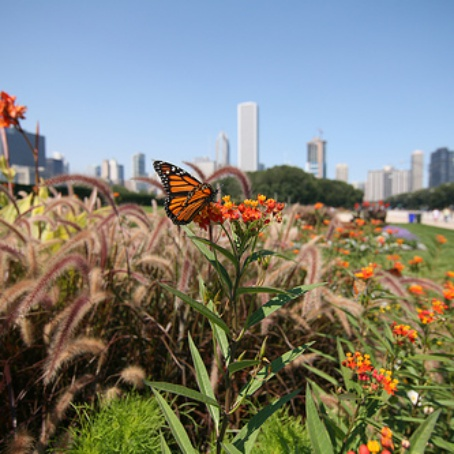building: (233, 95, 265, 174), (303, 133, 330, 181), (205, 131, 233, 172), (363, 166, 390, 208)
flowers: (14, 163, 454, 454)
insect: (151, 161, 218, 225)
sky: (1, 1, 454, 158)
